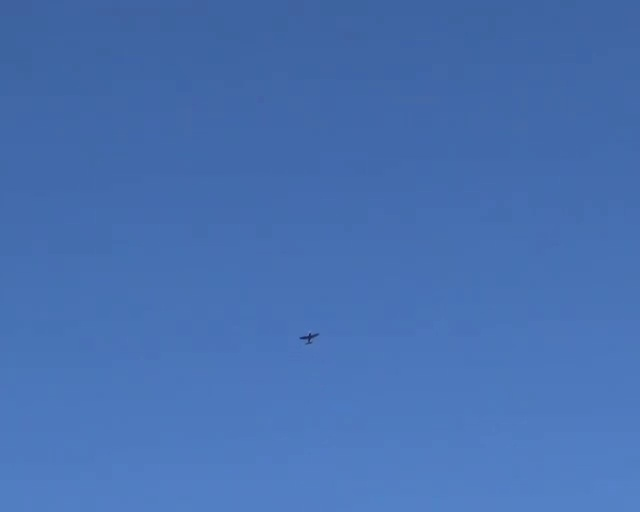AIRPLANE: (299, 331, 320, 344)
